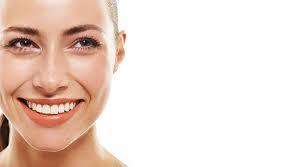Normal-Skin: (10, 4, 99, 149)
